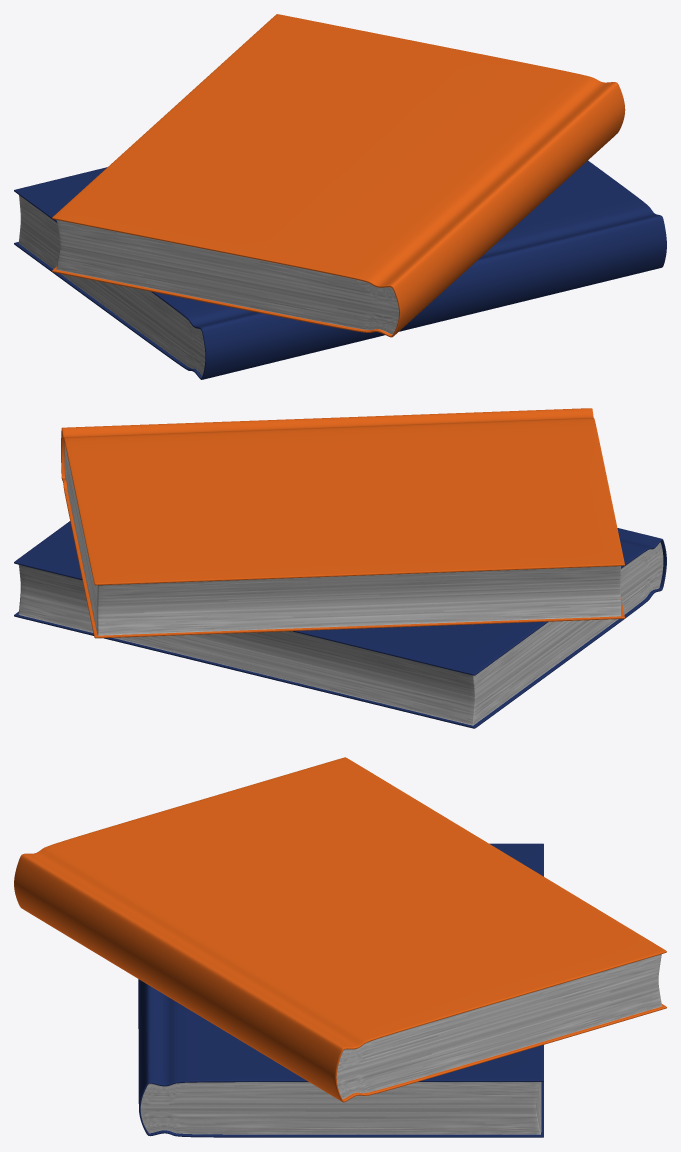
File: books_STB456T.obj
The picture shows the model from 3 angles, top to bottom: view 1: azimuth 30°, elevation 25°; view 2: azimuth 150°, elevation 25°; view 3: azimuth 270°, elevation 25°; orthographic projection. The views are drawn at different scales.
Visible parts, largest first — view 1: books; view 2: books; view 3: books.
Part boxes in pixels (x1=…): books: x1=14, y1=14, x2=666, y2=379; books: x1=14, y1=408, x2=666, y2=728; books: x1=14, y1=757, x2=666, y2=1137.
Size of the model in its own units: 34.02 by 6.27 by 32.13.
1 material, 1 textured.
